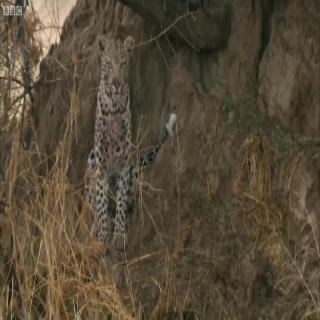Leopard: (70, 17, 162, 262)
